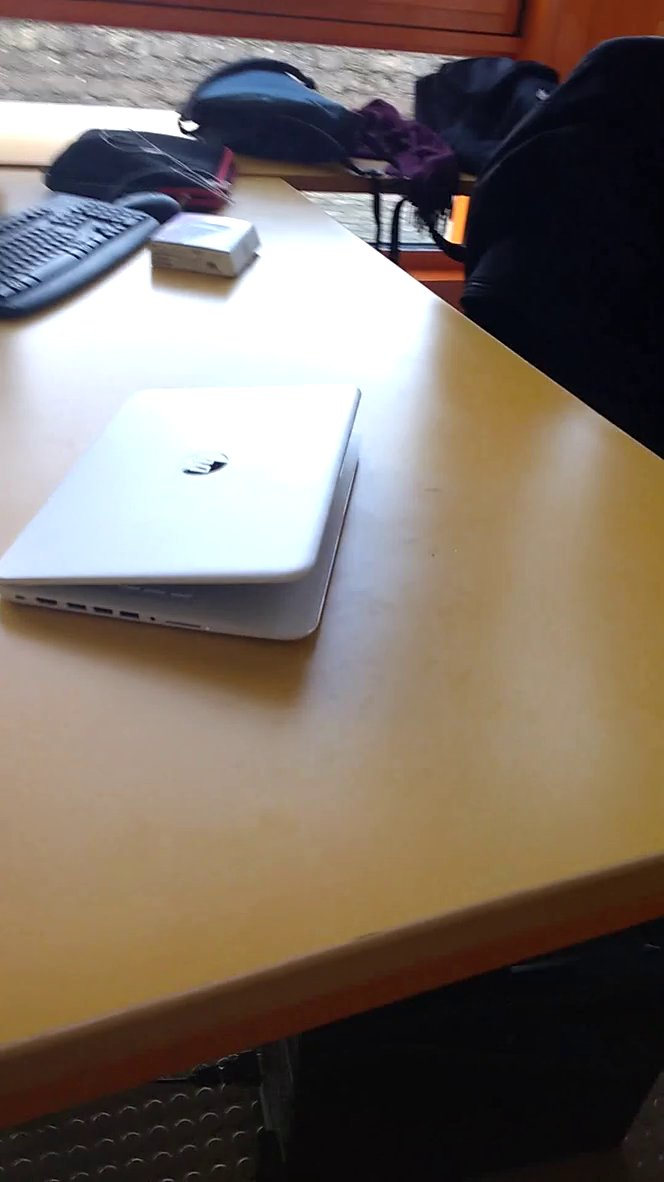bag: (170, 53, 377, 189)
laptop: (2, 348, 384, 681)
